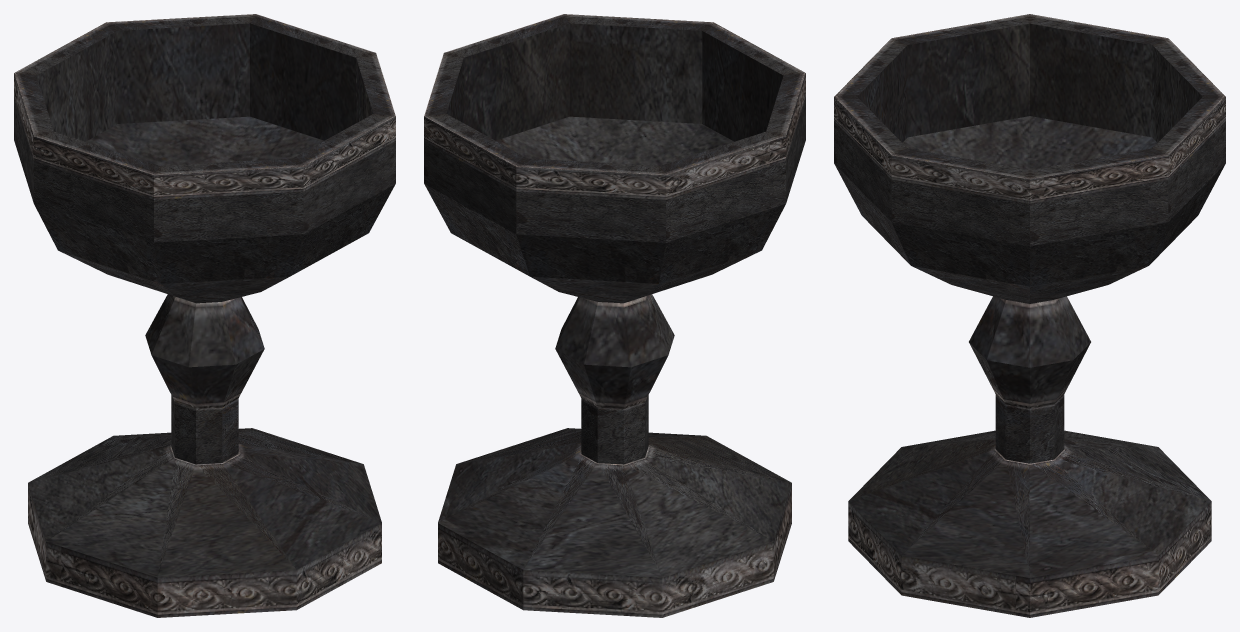
Rendered from tavern_cup2.dae.
3 renders of one model, left to right at view 1: azimuth 30°, elevation 25°; view 2: azimuth 150°, elevation 25°; view 3: azimuth 270°, elevation 25°, orthographic.
Parts seen in each view (by area): view 1: Default_Layer; view 2: Default_Layer; view 3: Default_Layer.
Boxes of the visible parts, <box> form: Default_Layer: <box>14,14,395,617</box>; Default_Layer: <box>424,14,805,617</box>; Default_Layer: <box>834,14,1225,617</box>.
Bounding box in the file's own units: 1.52 × 1.9 × 1.52.
